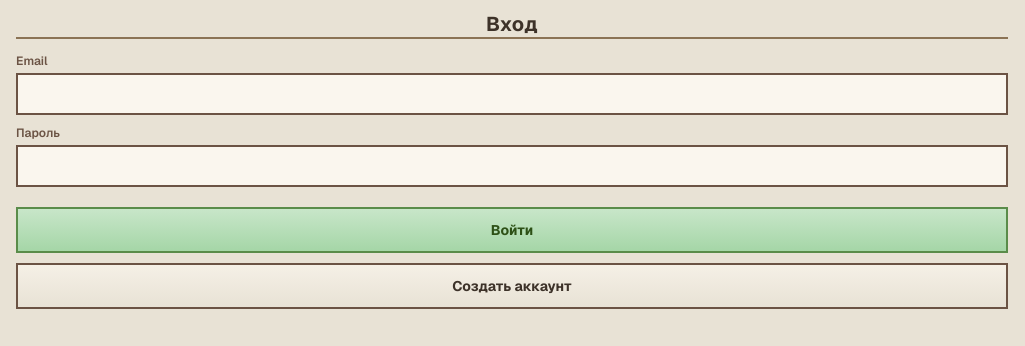
Test: LoginView › показывает ошибку при отсутствии прописной буквы
The width and height of the screenshot is (1025, 346).
Type "alllowercase1" into the password field labelled "Пароль" at (512, 166), box left=16, top=145, right=1008, bottom=187
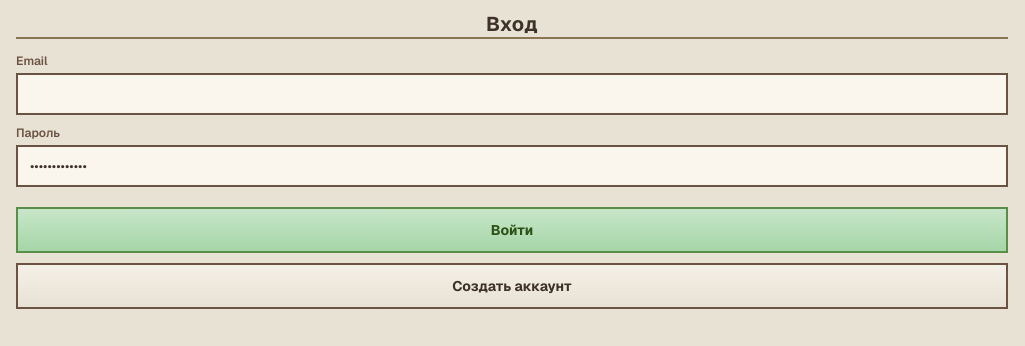
Leave the password field labelled "Пароль", box left=16, top=145, right=1008, bottom=187
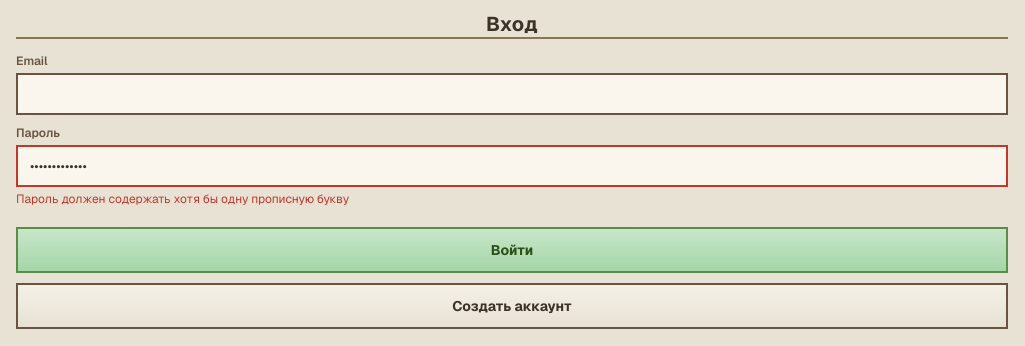
Result: the text "Пароль должен содержать хотя бы одну прописную букву" is shown at left=16, top=191, right=349, bottom=207
